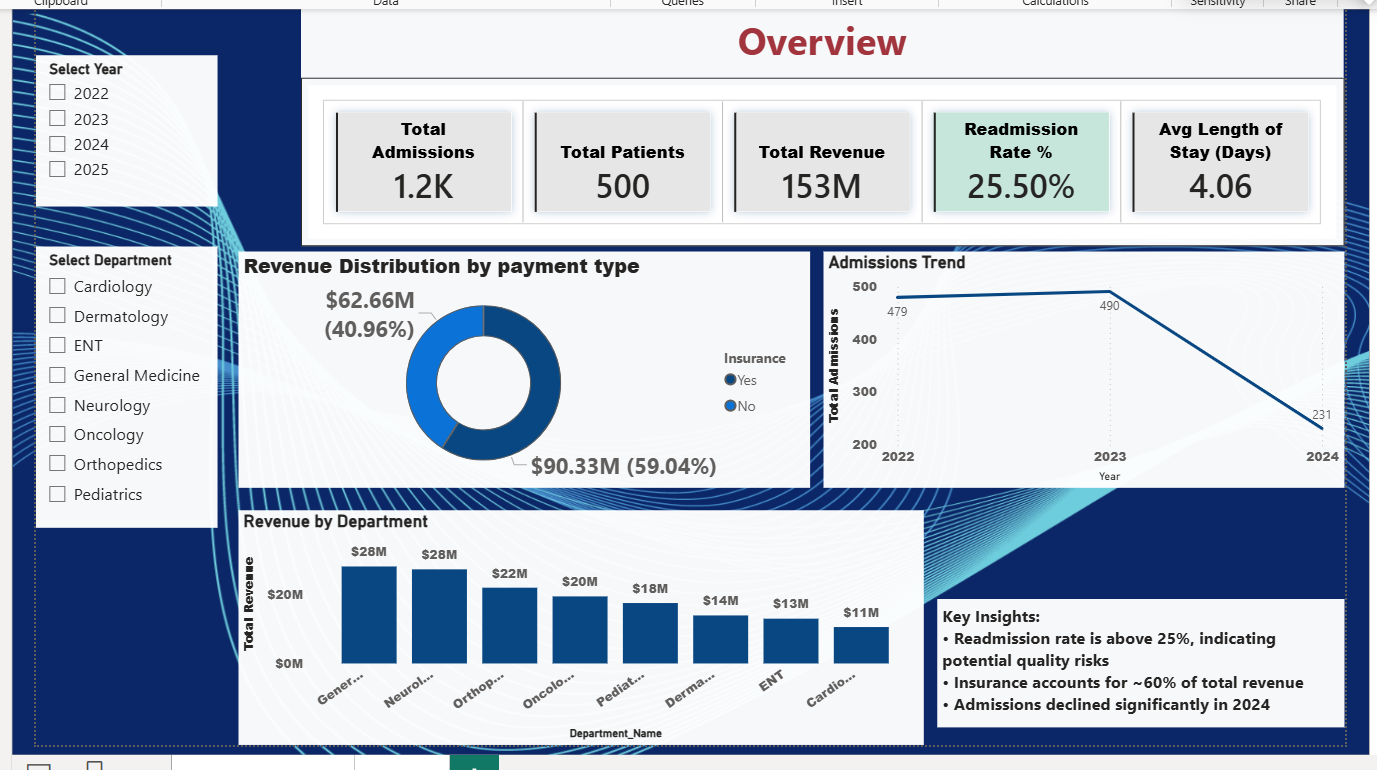

What the dashboard file says about the page in this screenshot:
{"tool":"powerbi","page":{"name":"Executive Overview","canvas":[1280,720],"ordinal":0},"visuals":[{"type":"cardVisual","fields":{"Data":["Total Admissions.Total Admission","Total Admissions.Total Patients","Total Admissions.Total Revenue","Admissions.Readmission Rate %","Admissions.Avg Length of Stay (Days)"]},"box":[259.2,67.3,1021.1,165.1],"z":0},{"type":"lineChart","title":"Admissions Trend","fields":{"Category":["Dim_Date.Date.Variation.Date Hierarchy.Year","Dim_Date.Date.Variation.Date Hierarchy.Month"],"Y":["Total Admissions.Total Admission"]},"box":[770.4,237.2,509.9,231.1],"z":1000},{"type":"columnChart","title":"Revenue by Department","fields":{"Category":["Departments.Department_Name"],"Y":["Total Admissions.Total Revenue"]},"box":[198.1,490.4,670.1,229.9],"z":2000},{"type":"donutChart","title":"Revenue Distribution by payment type","fields":{"Category":["Billing.Insurance"],"Y":["Total Admissions.Total Revenue"]},"box":[198.1,237.2,558.8,231.1],"z":3000},{"type":"slicer","fields":{"Values":["Dim_Date.Year"]},"box":[0,45.2,177.3,148],"z":4000},{"type":"slicer","fields":{"Values":["Departments.Department_Name"]},"box":[0,232.3,177.3,275.1],"z":5000},{"type":"textbox","box":[259.2,0,1019.8,67.3],"z":6000},{"type":"textbox","box":[881.7,577.2,398.6,126],"z":7000}]}

Visuals, with their boxes in screenshot pixels (x1, y1, x2, y2):
cardVisual - Total Admissions.Total Admission x Total Admissions.Total Patients: pyautogui.locateOnScreen(296, 76, 1336, 244)
"Admissions Trend" lineChart: pyautogui.locateOnScreen(817, 249, 1336, 484)
"Revenue by Department" columnChart: pyautogui.locateOnScreen(234, 507, 917, 741)
"Revenue Distribution by payment type" donutChart: pyautogui.locateOnScreen(234, 249, 803, 484)
slicer - Dim_Date.Year: pyautogui.locateOnScreen(32, 53, 213, 204)
slicer - Departments.Department_Name: pyautogui.locateOnScreen(32, 244, 213, 524)
textbox: pyautogui.locateOnScreen(296, 7, 1335, 76)
textbox: pyautogui.locateOnScreen(930, 595, 1336, 723)
